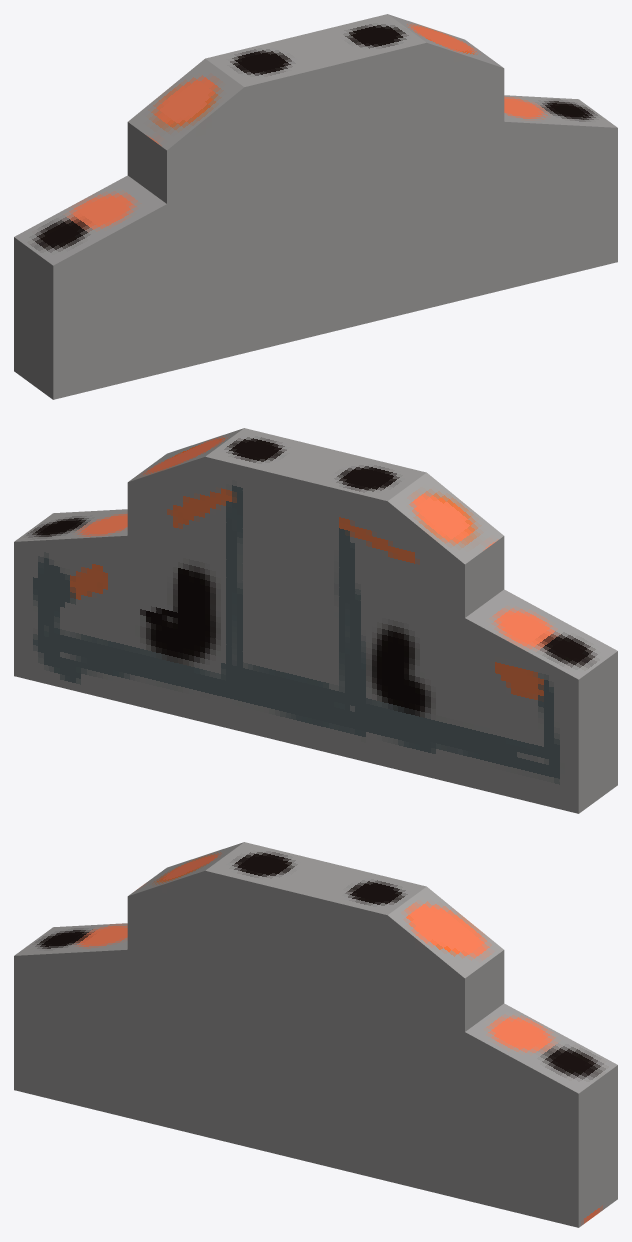
Rendered from ComponentModel.glb.
3 views of the same model, one above another, from view 1: azimuth 30°, elevation 25°; view 2: azimuth 150°, elevation 25°; view 3: azimuth 330°, elevation 25° (orthographic).
Parts seen in each view (by area): view 1: Component; view 2: Component; view 3: Component.
Part boxes in pixels (box(x1,y1,x2,y2)): Component: box(14, 14, 617, 399); Component: box(14, 428, 617, 813); Component: box(14, 842, 617, 1227).
Size of the model in its own units: 0.3003 by 0.1352 by 0.0361.
1 material, 1 textured.
